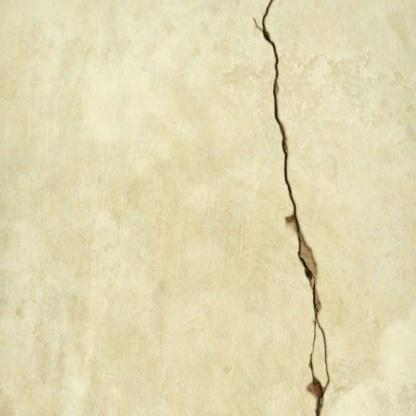Cracks: (249, 0, 335, 416)
